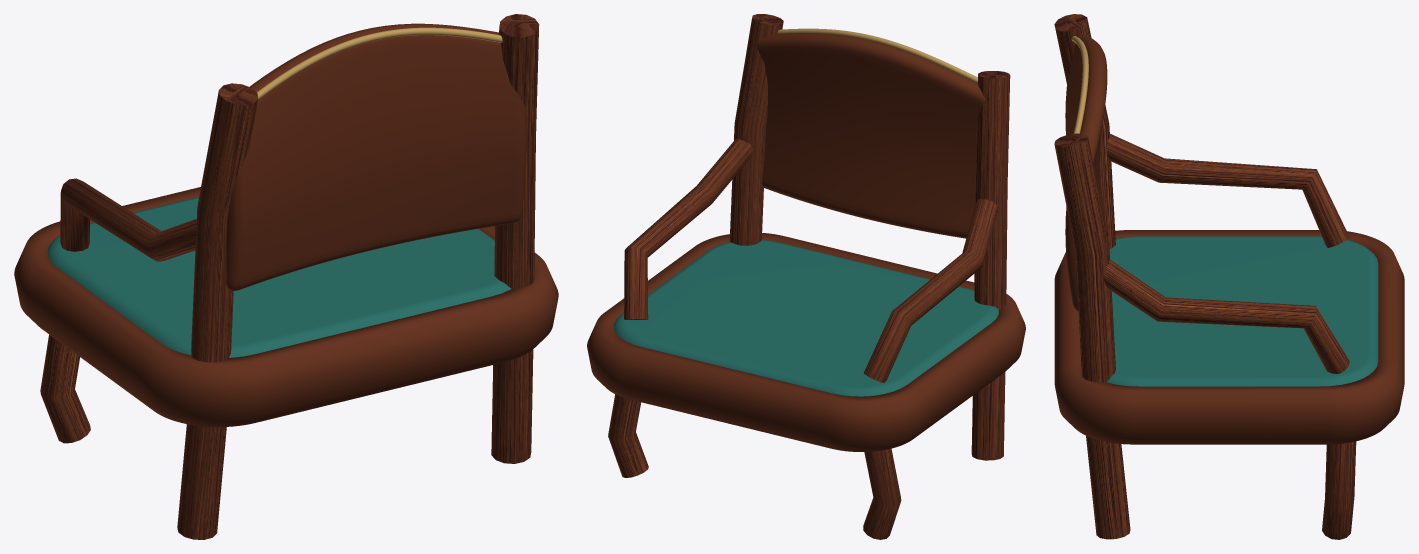
File: mahjong_chair_sculpted_v2.glb
The picture shows the model from 3 angles, left to right: view 1: azimuth 30°, elevation 25°; view 2: azimuth 150°, elevation 25°; view 3: azimuth 270°, elevation 25°; orthographic projection. The views are drawn at different scales.
Parts seen in each view (by area): view 1: mahjong_chair_sculpted_v2__FurnitureWood_WaxedChestnut, mahjong_chair_sculpted_v2__FurnitureFelt_DeepJade, mahjong_chair_sculpted_v2__FurnitureWood_GoldenEdges, mahjong_chair_sculpted_v2__Enamel_BrushedChampagne; view 2: mahjong_chair_sculpted_v2__FurnitureWood_WaxedChestnut, mahjong_chair_sculpted_v2__FurnitureFelt_DeepJade, mahjong_chair_sculpted_v2__FurnitureWood_GoldenEdges, mahjong_chair_sculpted_v2__Enamel_BrushedChampagne; view 3: mahjong_chair_sculpted_v2__FurnitureWood_WaxedChestnut, mahjong_chair_sculpted_v2__FurnitureFelt_DeepJade, mahjong_chair_sculpted_v2__FurnitureWood_GoldenEdges, mahjong_chair_sculpted_v2__Enamel_BrushedChampagne.
Part boxes in pixels (x1,y1,x2,y2): mahjong_chair_sculpted_v2__FurnitureWood_WaxedChestnut: (14, 14, 558, 539); mahjong_chair_sculpted_v2__FurnitureFelt_DeepJade: (47, 196, 511, 357); mahjong_chair_sculpted_v2__FurnitureWood_GoldenEdges: (60, 178, 196, 261); mahjong_chair_sculpted_v2__Enamel_BrushedChampagne: (256, 27, 502, 99); mahjong_chair_sculpted_v2__FurnitureWood_WaxedChestnut: (587, 14, 1025, 539); mahjong_chair_sculpted_v2__FurnitureFelt_DeepJade: (614, 240, 998, 396); mahjong_chair_sculpted_v2__FurnitureWood_GoldenEdges: (624, 139, 998, 382); mahjong_chair_sculpted_v2__Enamel_BrushedChampagne: (777, 28, 977, 82); mahjong_chair_sculpted_v2__FurnitureWood_WaxedChestnut: (1054, 14, 1404, 539); mahjong_chair_sculpted_v2__FurnitureFelt_DeepJade: (1081, 236, 1378, 386); mahjong_chair_sculpted_v2__FurnitureWood_GoldenEdges: (1103, 133, 1349, 373); mahjong_chair_sculpted_v2__Enamel_BrushedChampagne: (1071, 36, 1088, 133).
Bounding box in the file's own units: 2.67 × 2.97 × 2.32.
4 materials, 2 textured.
